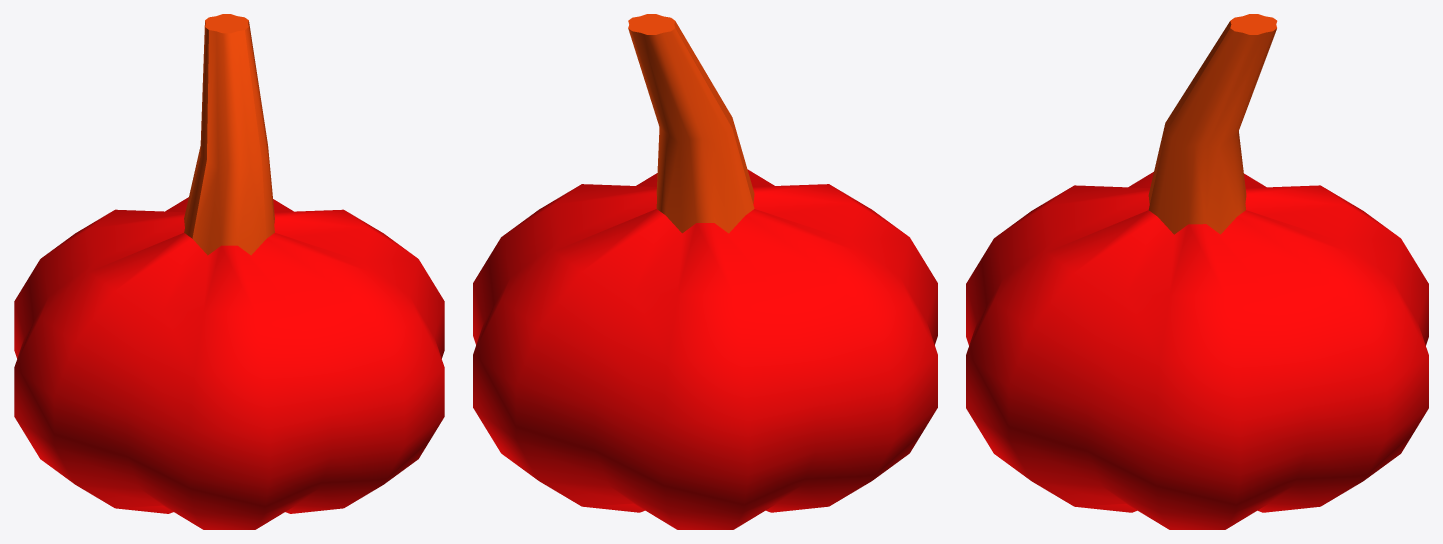
The model's file is Ail.FBX.
3 renders of one model, left to right at view 1: azimuth 30°, elevation 25°; view 2: azimuth 150°, elevation 25°; view 3: azimuth 270°, elevation 25°, orthographic. The views are drawn at different scales.
Parts seen in each view (by area): view 1: Ail001; view 2: Ail001; view 3: Ail001.
Part boxes in pixels (bbox=[...]): Ail001: bbox=[14, 14, 444, 529]; Ail001: bbox=[473, 14, 937, 529]; Ail001: bbox=[966, 14, 1428, 529].
Size of the model in its own units: 6.1 by 6.63 by 5.83.
